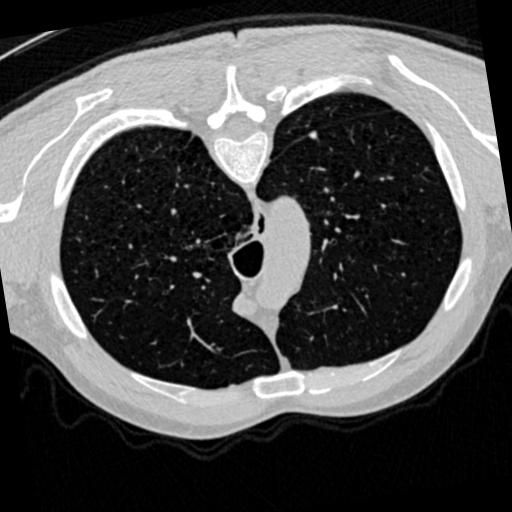nodule: (305, 128, 320, 143)
